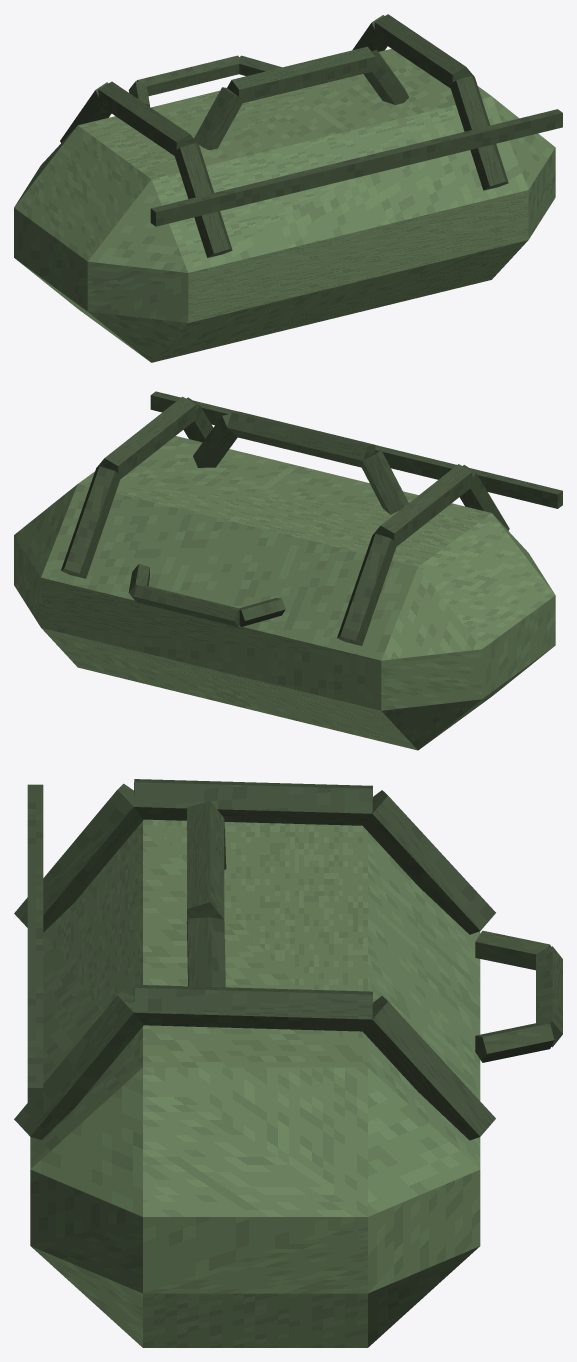
The model's file is duffelbag_gym_xs.glb.
The picture shows the model from 3 angles, top to bottom: view 1: azimuth 30°, elevation 25°; view 2: azimuth 150°, elevation 25°; view 3: azimuth 270°, elevation 25°; orthographic projection. The views are drawn at different scales.
Visible parts, largest first — view 1: block_bag shell, block_zipper, block_webbing strap 1 (×2), block_webbing strap 2 (×2), block_bridging grab handle 1, block_carry handle 1, block_bridging grab handle 0, block_webbing strap 0 (×2), block_bridging grab handle 2, block_carry handle 2; view 2: block_bag shell, block_webbing strap 0 (×2), block_webbing strap 1 (×2), block_zipper, block_bridging grab handle 1, block_carry handle 1, block_bridging grab handle 0, block_webbing strap 2 (×2), block_bridging grab handle 2, block_carry handle 0, block_carry handle 2; view 3: block_bag shell, block_webbing strap 1 (×2), block_webbing strap 0 (×2), block_webbing strap 2 (×2), block_zipper, block_bridging grab handle 1, block_bridging grab handle 2, block_carry handle 2, block_carry handle 1, block_carry handle 0.
Part boxes in pixels (bbox=[...]): block_bag shell: bbox=[14, 49, 555, 362]; block_zipper: bbox=[150, 109, 562, 226]; block_webbing strap 1 (×2): bbox=[98, 14, 474, 156]; block_webbing strap 2 (×2): bbox=[173, 75, 508, 257]; block_bridging grab handle 1: bbox=[227, 46, 375, 102]; block_carry handle 1: bbox=[136, 55, 239, 96]; block_bridging grab handle 0: bbox=[194, 87, 244, 150]; block_webbing strap 0 (×2): bbox=[60, 15, 387, 142]; block_bridging grab handle 2: bbox=[363, 49, 408, 104]; block_carry handle 2: bbox=[239, 55, 281, 76]; block_bag shell: bbox=[14, 436, 555, 750]; block_webbing strap 0 (×2): bbox=[61, 466, 397, 645]; block_webbing strap 1 (×2): bbox=[96, 396, 472, 547]; block_zipper: bbox=[150, 391, 562, 508]; block_bridging grab handle 1: bbox=[227, 411, 375, 467]; block_carry handle 1: bbox=[133, 585, 239, 626]; block_bridging grab handle 0: bbox=[362, 450, 408, 514]; block_webbing strap 2 (×2): bbox=[183, 397, 509, 530]; block_bridging grab handle 2: bbox=[193, 414, 237, 467]; block_carry handle 0: bbox=[239, 598, 285, 626]; block_carry handle 2: bbox=[128, 564, 149, 601]; block_bag shell: bbox=[30, 819, 480, 1347]; block_webbing strap 1 (×2): bbox=[134, 779, 372, 1031]; block_webbing strap 0 (×2): bbox=[363, 790, 495, 1140]; block_webbing strap 2 (×2): bbox=[14, 783, 143, 1139]; block_zipper: bbox=[27, 784, 43, 1110]; block_bridging grab handle 1: bbox=[187, 801, 224, 919]; block_bridging grab handle 2: bbox=[186, 917, 225, 987]; block_carry handle 2: bbox=[475, 1023, 554, 1062]; block_carry handle 1: bbox=[536, 946, 562, 1047]; block_carry handle 0: bbox=[475, 930, 550, 970].
Size of the model in its own units: 0.3222 by 0.1593 by 0.2144.
Materials: 1 (1 with a texture image).
